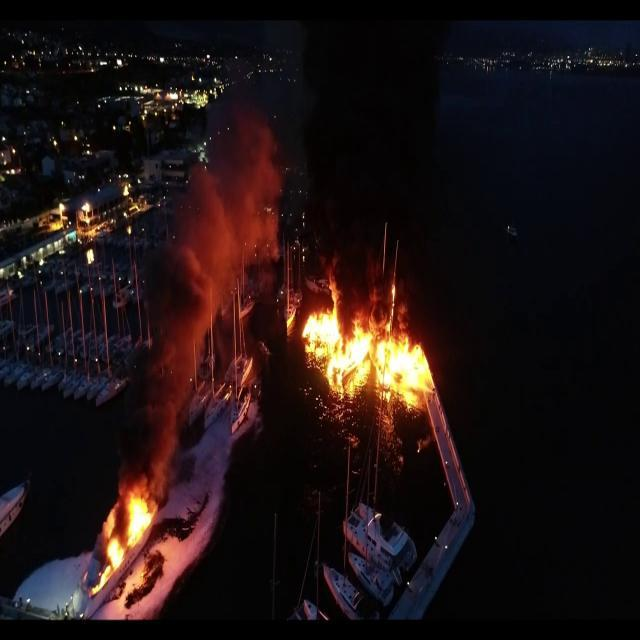Fire: (298, 284, 432, 412), (100, 481, 158, 578)
Smoke: (157, 93, 287, 344)
